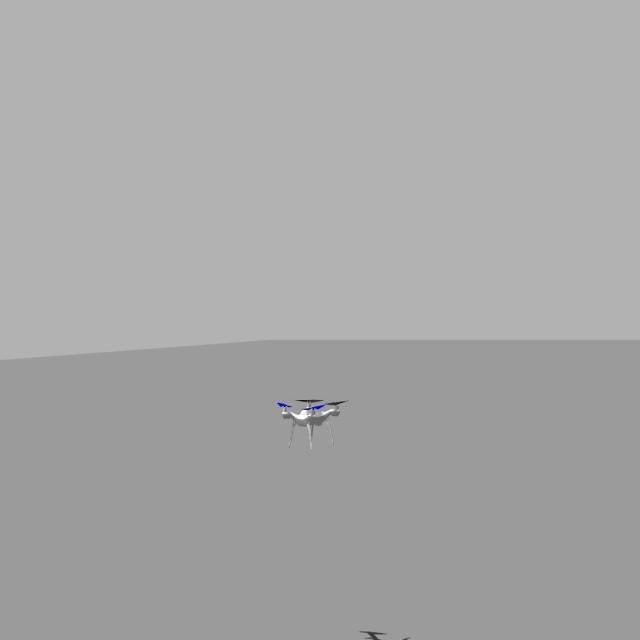Drone: (276, 392, 343, 450)
